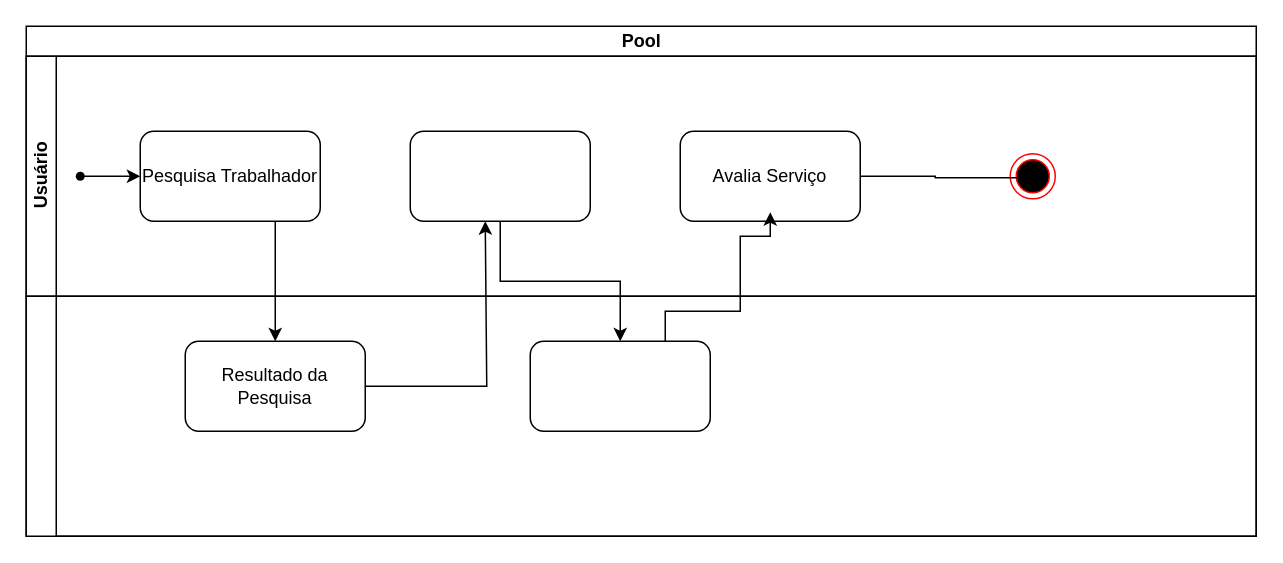
Some shapes in this 1283 by 563 pixel diagram are drawn without their labels. The shapes that lost their labels are listed below. From the top down, each one's box as (x1, y1, x2, y2) in pixels, then its label:
(409, 130, 590, 221): Seleciona Perfil
(529, 340, 710, 431): Exibe Perfil
(25, 295, 1256, 536): Sistema
